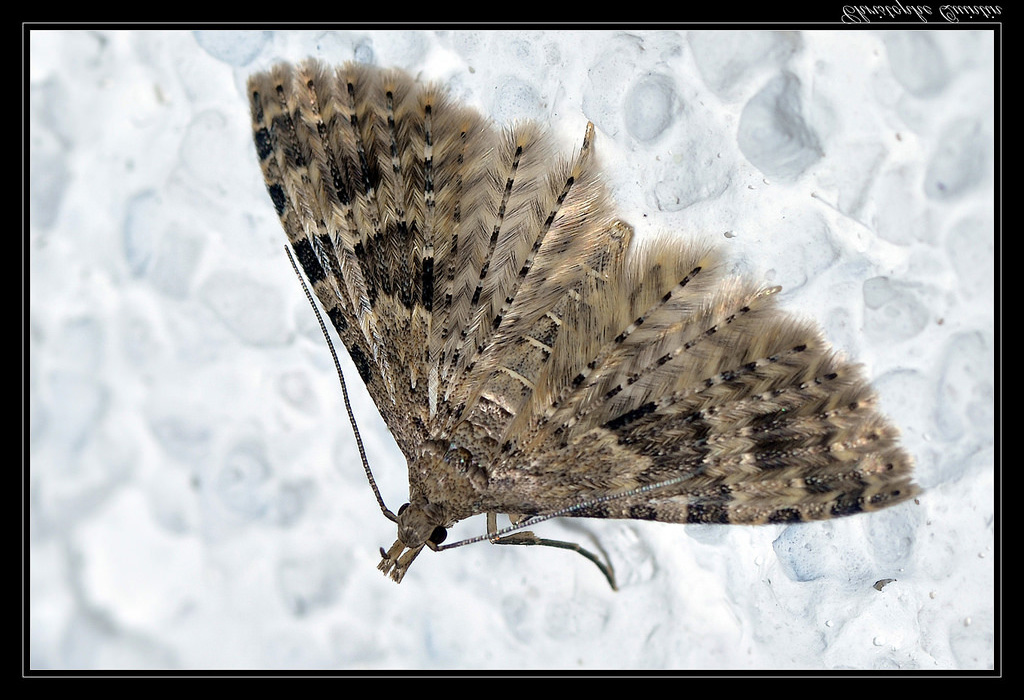Alucitidae: (249, 54, 923, 589)
moth: (247, 52, 921, 587)
